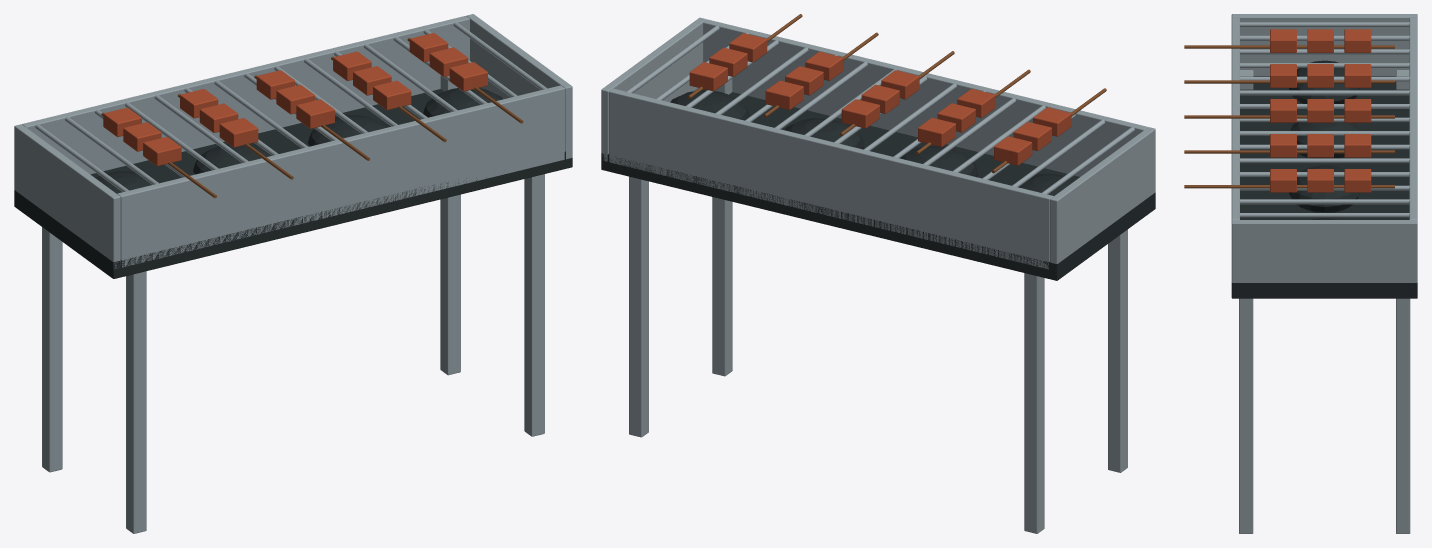
The model's file is satay-grill.glb.
3 views of the same model, side by side, from view 1: azimuth 30°, elevation 25°; view 2: azimuth 150°, elevation 25°; view 3: azimuth 270°, elevation 25° (orthographic). The views are drawn at different scales.
Visible parts, largest first — view 1: Firebox_Side, Firebox_Side.001, Firebox_Base, Firebox_End, Leg, Leg.002, Leg.001, Firebox_End.001, Leg.003, Charcoal, Charcoal.002, Charcoal.003 (+23 smaller); view 2: Firebox_Side.001, Firebox_Side, Firebox_Base, Firebox_End, Leg.001, Leg.003, Leg, Firebox_End.001, Leg.002, Charcoal.003, Charcoal.002, Charcoal (+23 smaller); view 3: Firebox_End.001, Firebox_Base, Firebox_End, Leg.002, Leg.003, Firebox_Side.001, Firebox_Side, Charcoal.003, Cooking_Grate.006, Cooking_Grate.011, Cooking_Grate.014, Charcoal.002 (+33 smaller).
Part boxes in pixels (x1,y1,x2,y2): Firebox_Side: (117, 85, 564, 267); Firebox_Side.001: (22, 16, 469, 174); Firebox_Base: (14, 89, 572, 278); Firebox_End: (14, 124, 120, 268); Leg: (126, 271, 146, 533); Leg.002: (524, 174, 544, 436); Leg.001: (42, 227, 62, 472); Firebox_End.001: (466, 14, 572, 159); Leg.003: (440, 75, 460, 375); Charcoal: (423, 88, 502, 117); Charcoal.002: (193, 144, 271, 174); Charcoal.003: (308, 115, 387, 146); Firebox_Side.001: (609, 88, 1053, 269); Firebox_Side: (703, 19, 1147, 176); Firebox_Base: (601, 88, 1155, 280); Firebox_End: (1050, 127, 1155, 263); Leg.001: (1024, 273, 1044, 533); Leg.003: (629, 176, 648, 437); Leg: (1108, 229, 1127, 472); Firebox_End.001: (601, 17, 706, 161); Leg.002: (712, 78, 732, 376); Charcoal.003: (784, 118, 863, 149); Charcoal.002: (900, 146, 978, 176); Charcoal: (670, 90, 749, 120); Firebox_End.001: (1231, 220, 1417, 282); Firebox_Base: (1231, 76, 1417, 298); Firebox_End: (1231, 14, 1417, 75); Leg.002: (1239, 298, 1253, 533); Leg.003: (1396, 298, 1410, 533); Firebox_Side.001: (1409, 17, 1417, 219); Firebox_Side: (1231, 17, 1239, 220); Charcoal.003: (1289, 165, 1360, 212); Cooking_Grate.006: (1239, 90, 1409, 95); Cooking_Grate.011: (1239, 158, 1409, 163); Cooking_Grate.014: (1239, 199, 1409, 204); Charcoal.002: (1290, 114, 1358, 158).
Bounding box in the file's own units: 1.2 × 0.8975 × 0.565.
